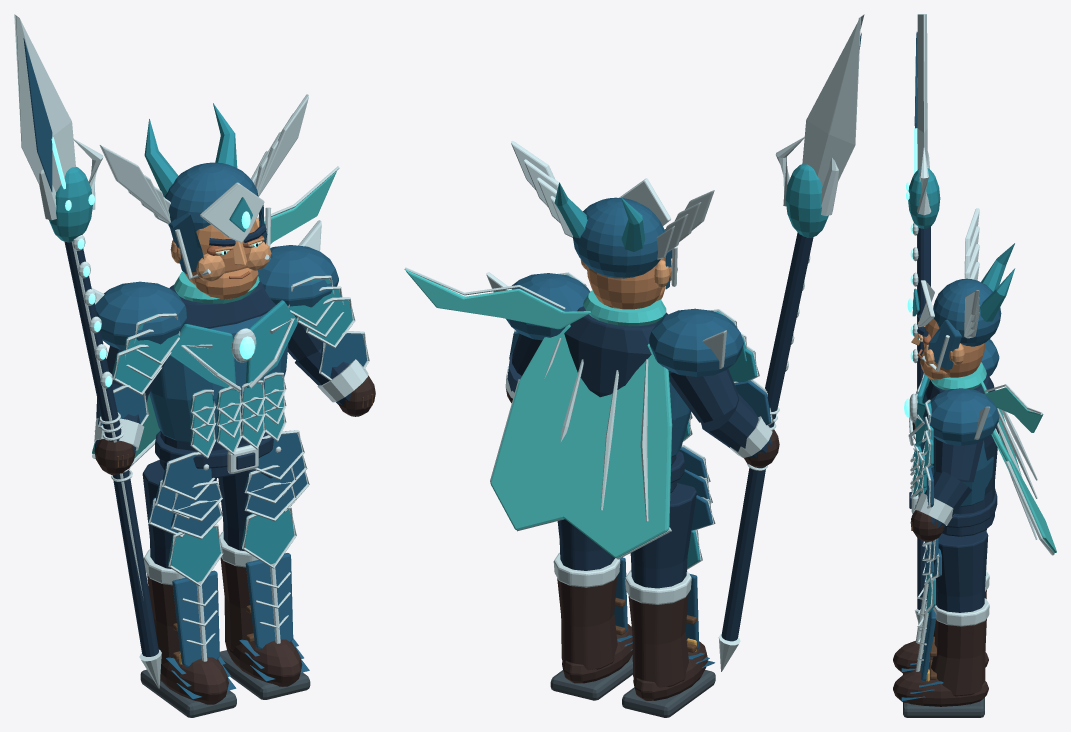
File: dragoon.glb
3 views of the same model, side by side, from view 1: azimuth 30°, elevation 25°; view 2: azimuth 150°, elevation 25°; view 3: azimuth 270°, elevation 25° (orthographic). The views are drawn at different scales.
Visible parts, largest first — view 1: Dragoon — blue dragon scales mesh.002, Dragoon — pale platinum mesh.006, Dragoon — enamel midnight azure mesh.002, Dragoon — pale platinum mesh.004, Dragoon — pale platinum mesh.005, Dragoon — deep chainmail mesh.006, Dragoon — enamel midnight azure mesh.003, Dragoon — enamel midnight azure mesh.001, Dragoon — enamel midnight azure mesh, Dragoon — enamel midnight azure mesh.004, Dragoon — deep chainmail mesh, Weathered dark leather mesh.002 (+25 smaller); view 2: Dragoon — seafoam silk mesh, Dragoon — pale platinum mesh.006, Dragoon — deep chainmail mesh.006, Weathered dark leather mesh, Weathered dark leather mesh.002, Dragoon — enamel midnight azure mesh.003, Dragoon — deep chainmail mesh, Dragoon — enamel midnight azure mesh.005, Dragoon — pale platinum mesh.005, Dragoon — deep chainmail mesh.002, Dragoon — deep chainmail mesh.001, Dragoon — pale platinum mesh.004 (+15 smaller); view 3: Weathered dark leather mesh.002, Dragoon — deep chainmail mesh.003, Dragoon — enamel midnight azure mesh.004, Dragoon — enamel midnight azure mesh.005, Dragoon — seafoam silk mesh, Dragoon — pale platinum mesh.004, Dragoon — pale platinum mesh.006, Dragoon — deep chainmail mesh.004, Dragoon — deep chainmail mesh, Dragoon — pale platinum mesh.005, Dragoon — deep chainmail mesh.006, Dragoon — pale platinum mesh.002 (+15 smaller).
Boxes of the visible parts, x1,y1,x2,y2 form: Dragoon — blue dragon scales mesh.002: [170, 300, 297, 455]; Dragoon — pale platinum mesh.006: [14, 14, 161, 688]; Dragoon — enamel midnight azure mesh.002: [148, 314, 307, 532]; Dragoon — pale platinum mesh.004: [92, 166, 339, 537]; Dragoon — pale platinum mesh.005: [99, 94, 308, 279]; Dragoon — deep chainmail mesh.006: [64, 242, 158, 656]; Dragoon — enamel midnight azure mesh.003: [95, 281, 186, 425]; Dragoon — enamel midnight azure mesh.001: [239, 469, 309, 681]; Dragoon — enamel midnight azure mesh: [166, 481, 236, 698]; Dragoon — enamel midnight azure mesh.004: [257, 245, 367, 377]; Dragoon — deep chainmail mesh: [155, 281, 275, 478]; Weathered dark leather mesh.002: [220, 557, 302, 686]; Dragoon — seafoam silk mesh: [405, 269, 672, 557]; Dragoon — pale platinum mesh.006: [718, 14, 864, 671]; Dragoon — deep chainmail mesh.006: [721, 232, 813, 641]; Weathered dark leather mesh: [628, 593, 707, 700]; Weathered dark leather mesh.002: [557, 576, 632, 683]; Dragoon — enamel midnight azure mesh.003: [649, 308, 771, 425]; Dragoon — deep chainmail mesh: [564, 306, 684, 492]; Dragoon — enamel midnight azure mesh.005: [573, 197, 672, 289]; Dragoon — pale platinum mesh.005: [511, 141, 714, 286]; Dragoon — deep chainmail mesh.002: [668, 369, 772, 458]; Dragoon — deep chainmail mesh.001: [630, 483, 696, 588]; Dragoon — pale platinum mesh.004: [404, 267, 715, 559]; Weathered dark leather mesh.002: [893, 619, 988, 706]; Dragoon — deep chainmail mesh.003: [934, 530, 988, 612]; Dragoon — enamel midnight azure mesh.004: [923, 388, 999, 507]; Dragoon — enamel midnight azure mesh.005: [928, 278, 1001, 369]; Dragoon — seafoam silk mesh: [930, 362, 1056, 552]; Dragoon — pale platinum mesh.004: [908, 378, 1054, 579]; Dragoon — pale platinum mesh.006: [912, 14, 931, 623]; Dragoon — deep chainmail mesh.004: [924, 438, 983, 528]; Dragoon — deep chainmail mesh: [909, 372, 998, 536]; Dragoon — pale platinum mesh.005: [917, 208, 979, 371]; Dragoon — deep chainmail mesh.006: [917, 227, 930, 609]; Dragoon — pale platinum mesh.002: [915, 543, 989, 671].
Size of the model in its own units: 1.87 by 3.31 by 0.8286.
